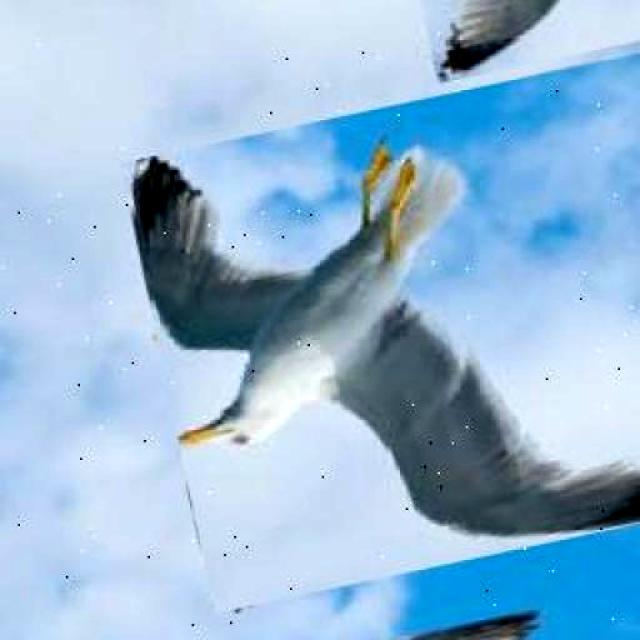airplane: (119, 52, 640, 612)
